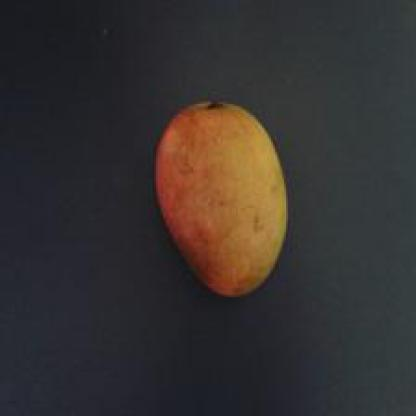mango: (152, 91, 292, 305)
